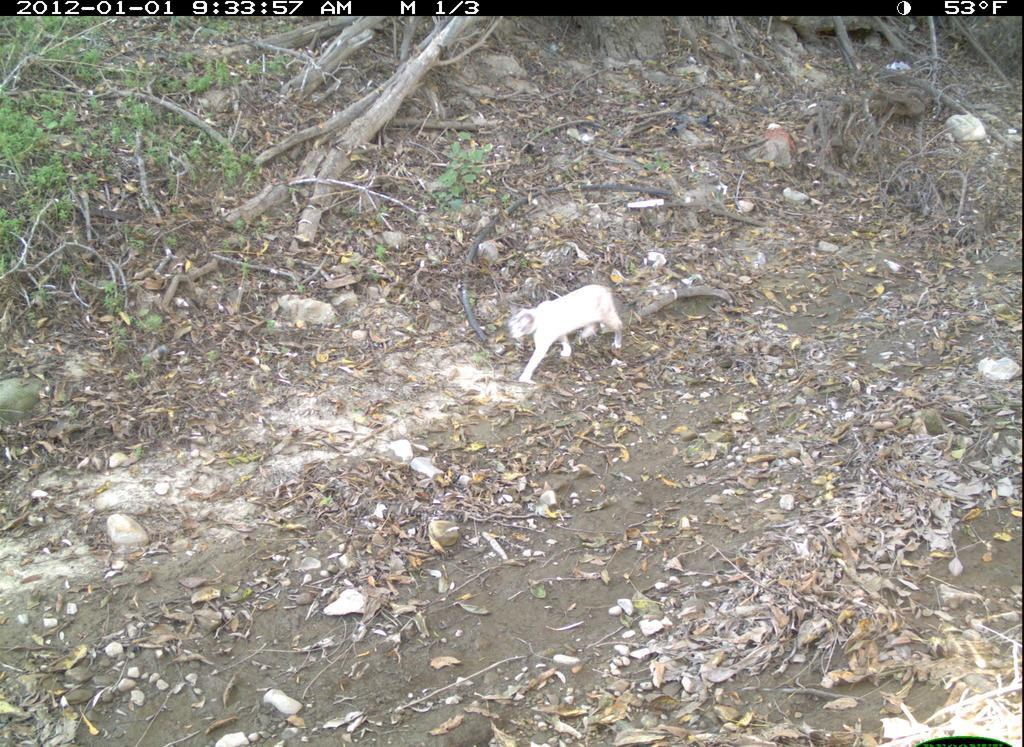cat: (496, 274, 639, 390)
